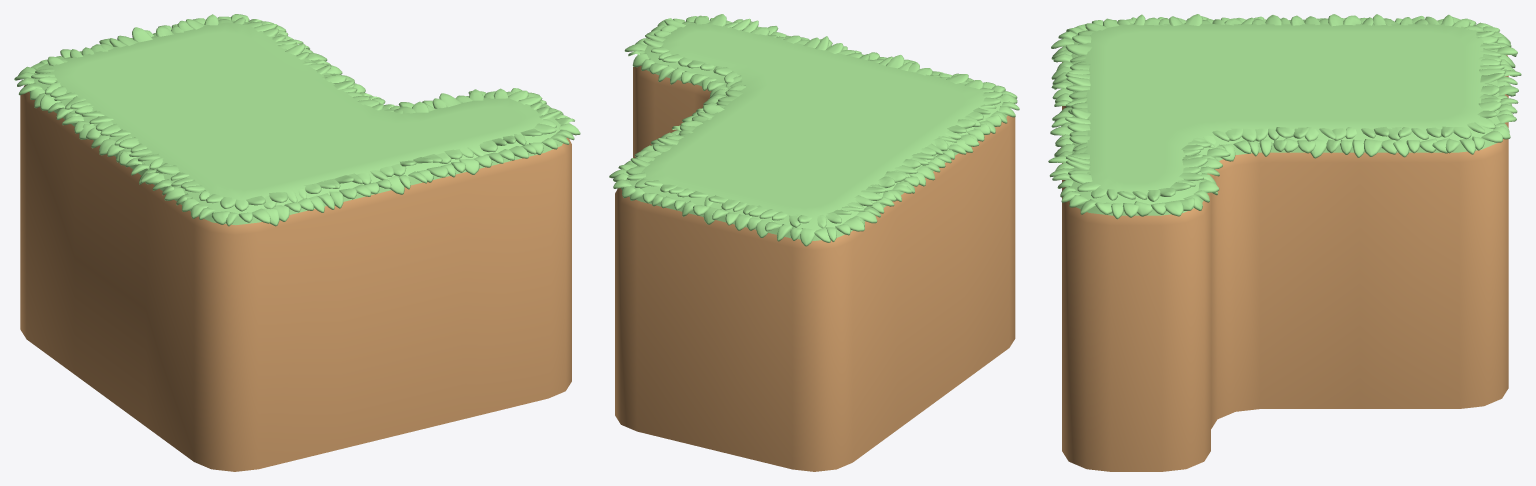
The model's file is Cliffs_3x3_L.fbx.
3 renders of one model, left to right at view 1: azimuth 30°, elevation 25°; view 2: azimuth 150°, elevation 25°; view 3: azimuth 270°, elevation 25°, orthographic. The views are drawn at different scales.
Parts seen in each view (by area): view 1: 3x3_L_Cliff, 3x3_L_Blades; view 2: 3x3_L_Cliff, 3x3_L_Blades; view 3: 3x3_L_Cliff, 3x3_L_Blades.
Boxes of the visible parts, x1,y1,x2,y2 form: 3x3_L_Cliff: [20, 20, 571, 471]; 3x3_L_Blades: [14, 14, 580, 226]; 3x3_L_Cliff: [615, 22, 1015, 471]; 3x3_L_Blades: [609, 14, 1019, 246]; 3x3_L_Cliff: [1062, 23, 1508, 471]; 3x3_L_Blades: [1048, 14, 1521, 219].
Size of the model in its own units: 315 by 205 by 318.
